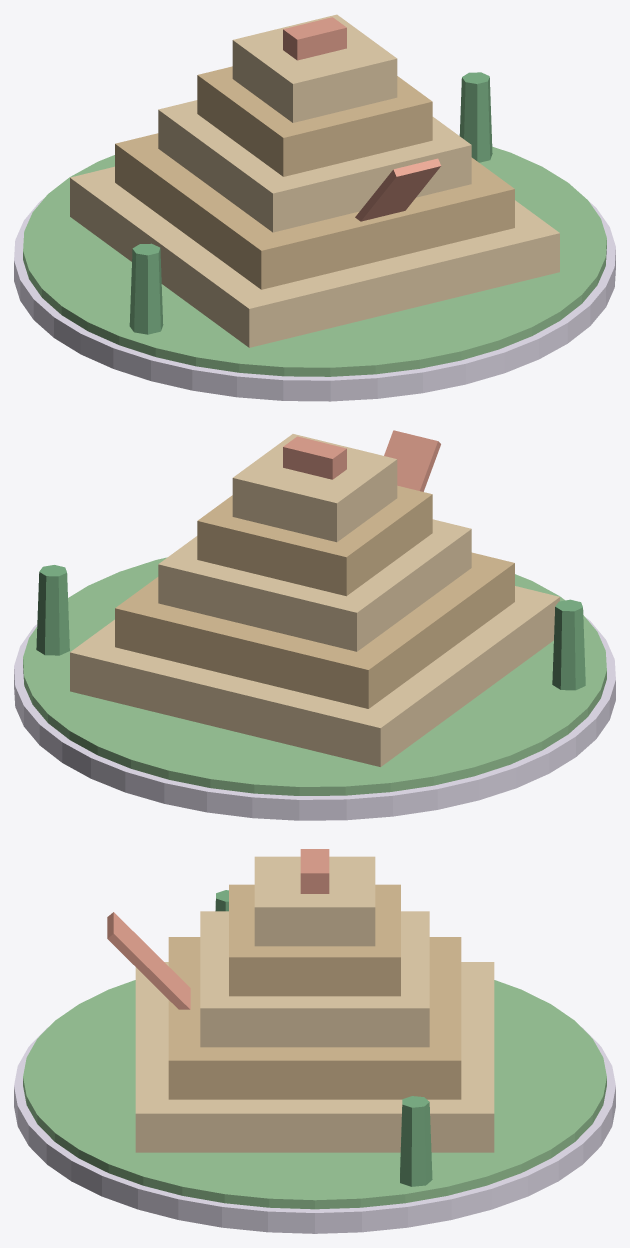
File: gunes.glb
The picture shows the model from 3 angles, top to bottom: view 1: azimuth 30°, elevation 25°; view 2: azimuth 150°, elevation 25°; view 3: azimuth 270°, elevation 25°; orthographic projection.
Visible parts, largest first — view 1: gunes; view 2: gunes; view 3: gunes.
Part boxes in pixels (left/top/right/bottom): gunes: left=14, top=14, right=615, bottom=401; gunes: left=14, top=430, right=615, bottom=820; gunes: left=14, top=849, right=615, bottom=1233.
Size of the model in its own units: 2.1 by 0.945 by 2.1.
1 material, 1 textured.
